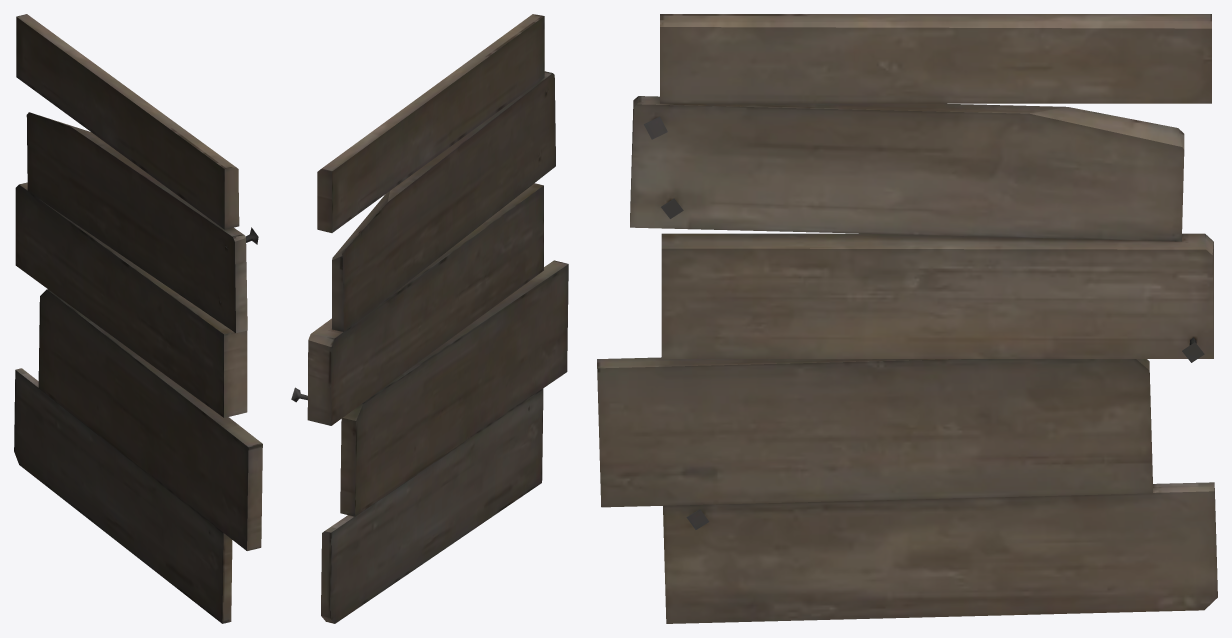
3 views of the same model, side by side, from view 1: azimuth 30°, elevation 25°; view 2: azimuth 150°, elevation 25°; view 3: azimuth 270°, elevation 25° (orthographic). The views are drawn at different scales.
Parts seen in each view (by area): view 1: body0_model0_lod0_mesh0; view 2: body0_model0_lod0_mesh0; view 3: body0_model0_lod0_mesh0.
Part boxes in pixels (box(x1,y1,x2,y2)): body0_model0_lod0_mesh0: box(14, 14, 262, 623); body0_model0_lod0_mesh0: box(291, 14, 568, 623); body0_model0_lod0_mesh0: box(597, 14, 1217, 623).
Bounding box in the file's own units: 10.33 × 104 × 96.58.
1 material, 1 textured.
